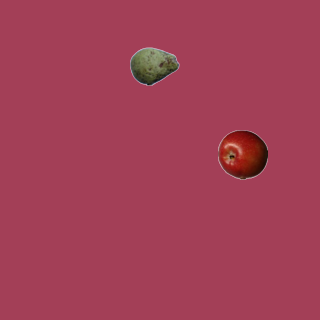Apple Braeburn: (217, 129, 267, 179)
Pear Stone: (129, 41, 179, 91)
